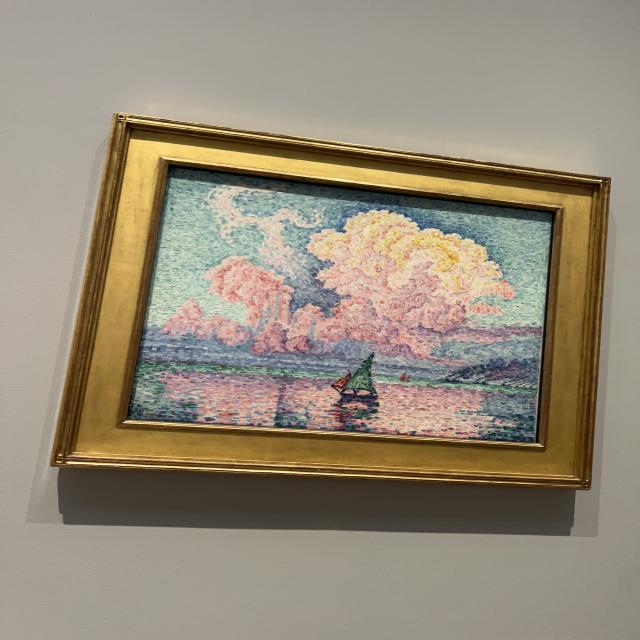sunrise: (129, 164, 555, 443)
